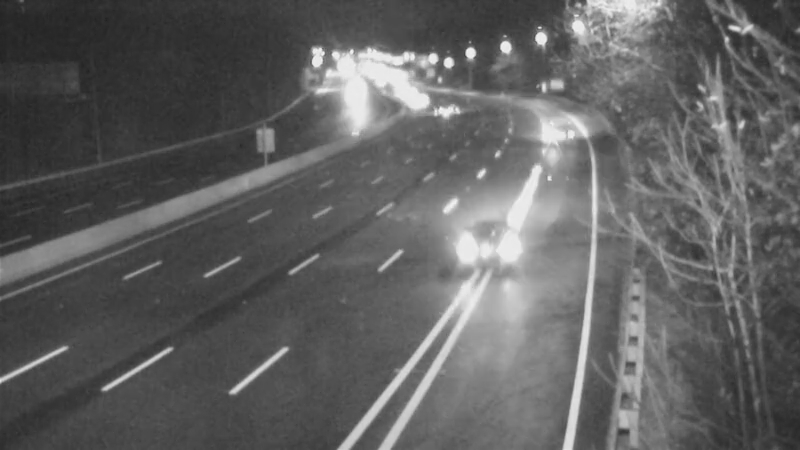vehicle: (458, 210, 538, 290), (418, 86, 468, 136), (532, 110, 582, 160)
